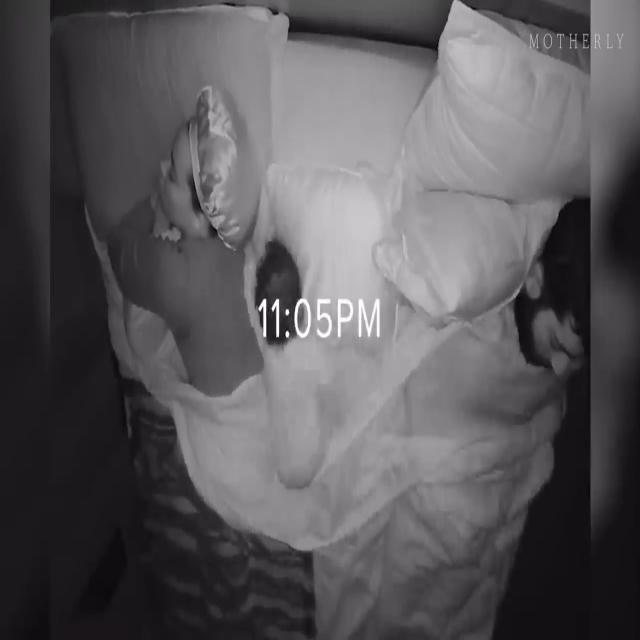baby: (243, 239, 330, 501)
